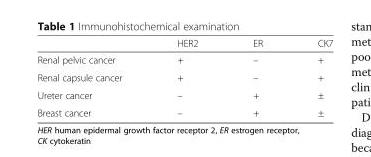table: (36, 37, 332, 118)
table column: (36, 37, 148, 118), (148, 37, 224, 118), (224, 37, 289, 118), (289, 37, 332, 118)
table column header: (36, 37, 332, 51)
table row: (36, 85, 332, 103), (36, 51, 332, 68), (36, 68, 332, 85), (36, 103, 332, 118), (36, 37, 332, 51)
